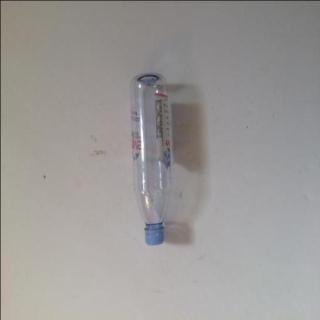Anorganik: (128, 62, 174, 254)
